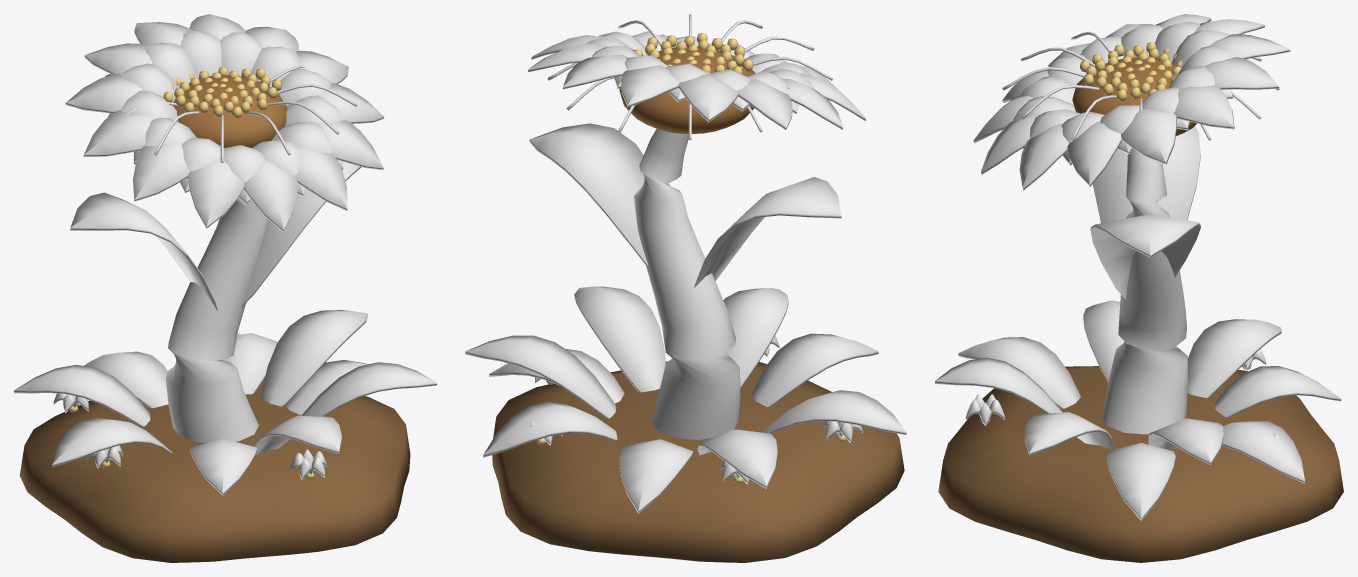
Rendered from blossom-3.fbx.
The picture shows the model from 3 angles, left to right: view 1: azimuth 30°, elevation 25°; view 2: azimuth 150°, elevation 25°; view 3: azimuth 270°, elevation 25°; orthographic projection. The views are drawn at different scales.
Parts seen in each view (by area): view 1: Base_Organic, FlowerHead_Petal, Base_Leaf, LivingStem, Core_Organic, Petals_Leaf, Base_Petal, Turret_Petal; view 2: Base_Organic, Base_Leaf, LivingStem, FlowerHead_Petal, Petals_Leaf, Core_Organic, Turret_Petal, Base_Petal; view 3: Base_Organic, Base_Leaf, FlowerHead_Petal, LivingStem, Petals_Leaf, Core_Organic, Turret_Petal, Base_Petal.
Boxes of the visible parts, left/top/right/bottom form: Base_Organic: left=19, top=378, right=410, bottom=562; FlowerHead_Petal: left=65, top=14, right=384, bottom=232; Base_Leaf: left=14, top=310, right=436, bottom=495; LivingStem: left=166, top=198, right=267, bottom=442; Core_Organic: left=163, top=67, right=287, bottom=147; Petals_Leaf: left=70, top=161, right=361, bottom=311; Base_Petal: left=53, top=332, right=327, bottom=479; Turret_Petal: left=105, top=65, right=357, bottom=162; Base_Organic: left=492, top=361, right=904, bottom=562; Base_Leaf: left=465, top=286, right=906, bottom=513; LivingStem: left=634, top=129, right=740, bottom=439; FlowerHead_Petal: left=528, top=31, right=866, bottom=129; Petals_Leaf: left=529, top=123, right=841, bottom=287; Core_Organic: left=619, top=33, right=755, bottom=133; Turret_Petal: left=547, top=14, right=833, bottom=140; Base_Petal: left=529, top=335, right=862, bottom=484; Base_Organic: left=938, top=364, right=1343, bottom=562; Base_Leaf: left=935, top=300, right=1341, bottom=520; FlowerHead_Petal: left=973, top=14, right=1290, bottom=190; LivingStem: left=1101, top=149, right=1187, bottom=434; Petals_Leaf: left=1090, top=126, right=1200, bottom=299; Core_Organic: left=1072, top=42, right=1196, bottom=135; Turret_Petal: left=1002, top=31, right=1279, bottom=140; Base_Petal: left=965, top=349, right=1279, bottom=438.
Size of the model in its own units: 97.28 by 110 by 88.94.
